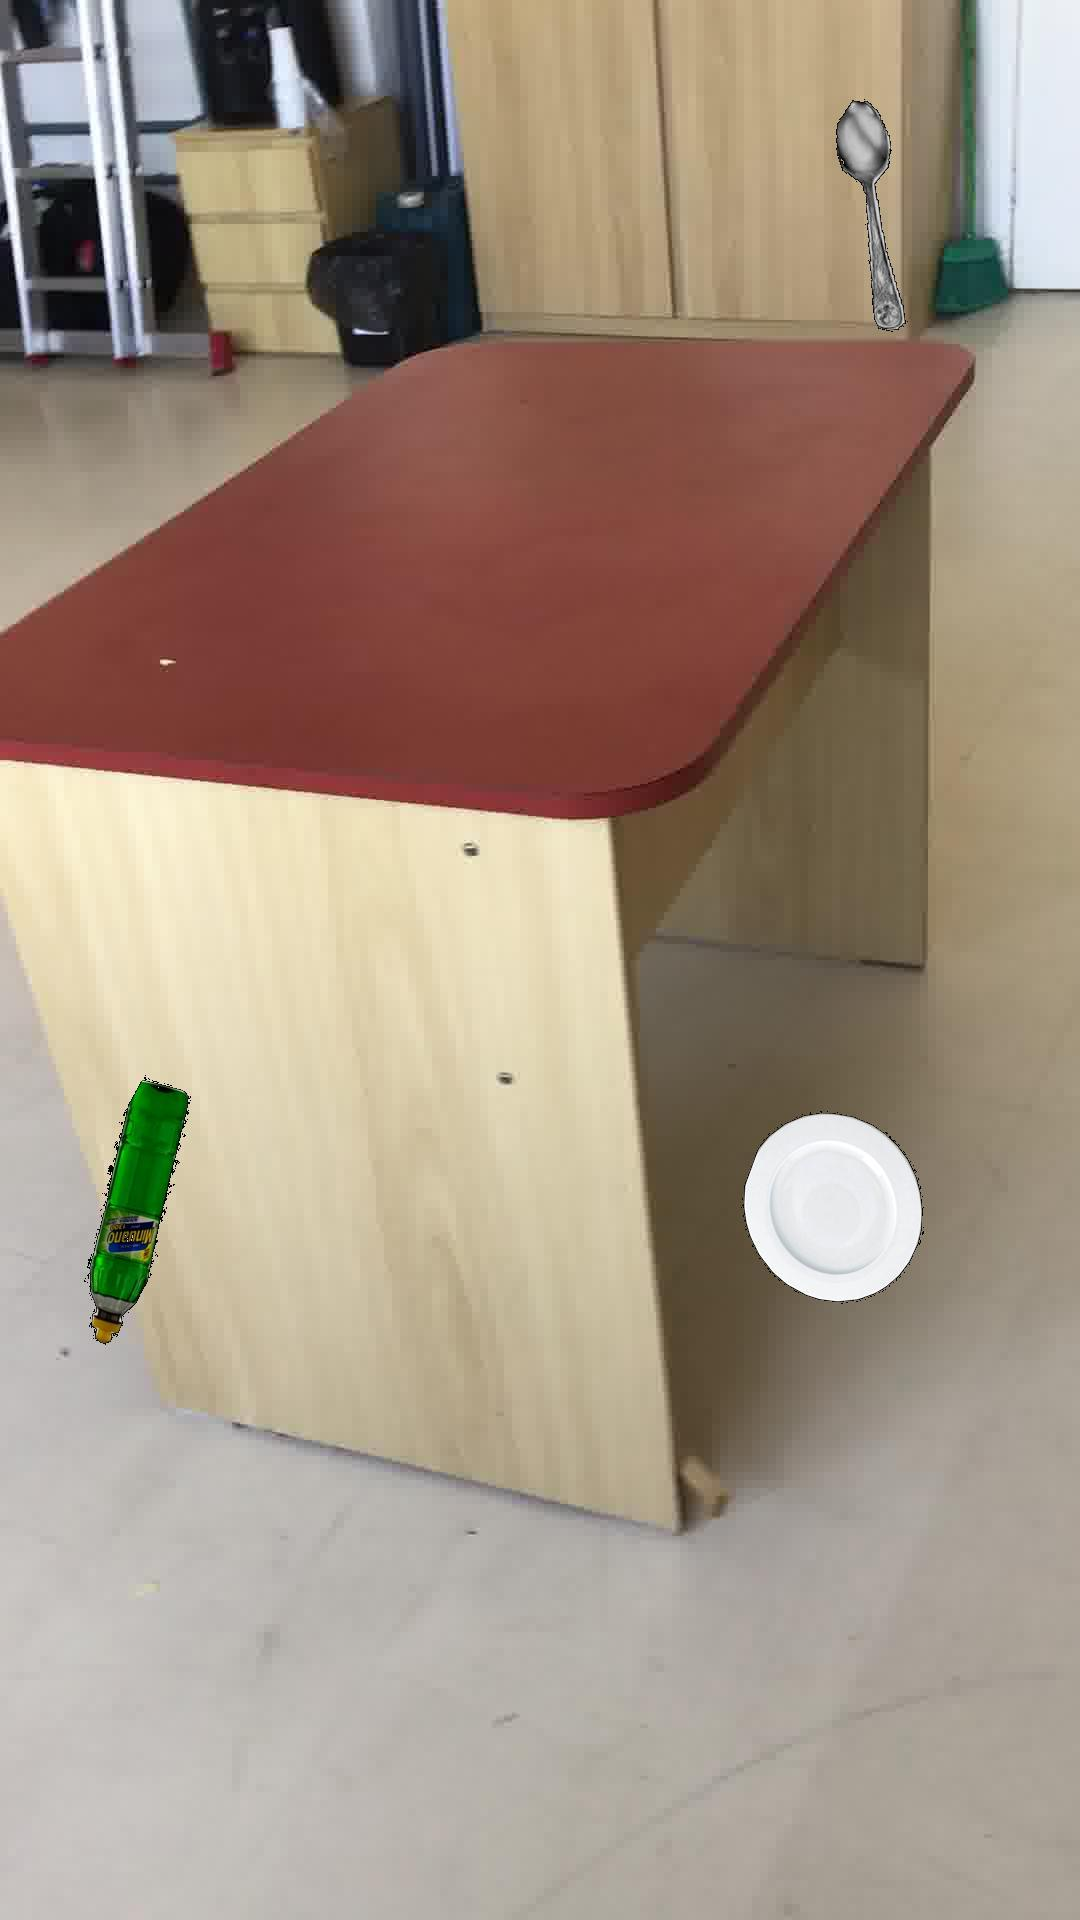cleaner: (86, 1076, 189, 1344)
plate: (741, 1109, 922, 1300)
spoon: (835, 99, 905, 330)
